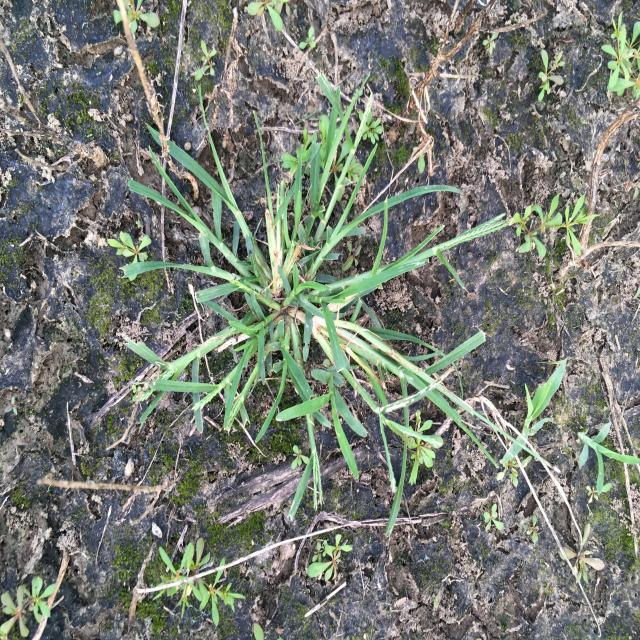Carpetweed: (151, 540, 247, 628), (509, 192, 604, 262), (602, 10, 638, 107), (555, 518, 606, 586), (1, 580, 59, 638), (103, 223, 153, 283), (305, 530, 354, 588), (112, 1, 162, 40), (537, 46, 565, 102), (244, 2, 289, 32), (190, 35, 218, 81), (482, 504, 505, 535), (524, 514, 540, 544)
Goosegrass: (119, 70, 565, 541), (576, 420, 638, 500)
